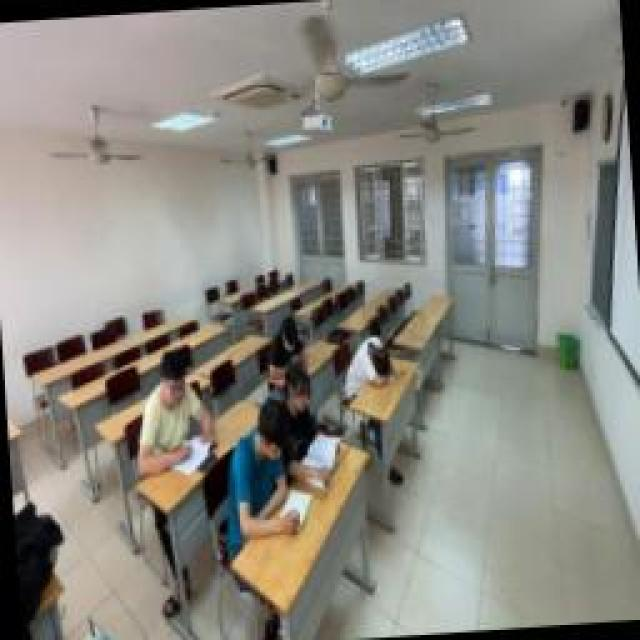sleep: (340, 335, 398, 395), (265, 318, 307, 380)
study: (220, 398, 302, 540), (130, 347, 218, 475), (272, 360, 338, 488)
